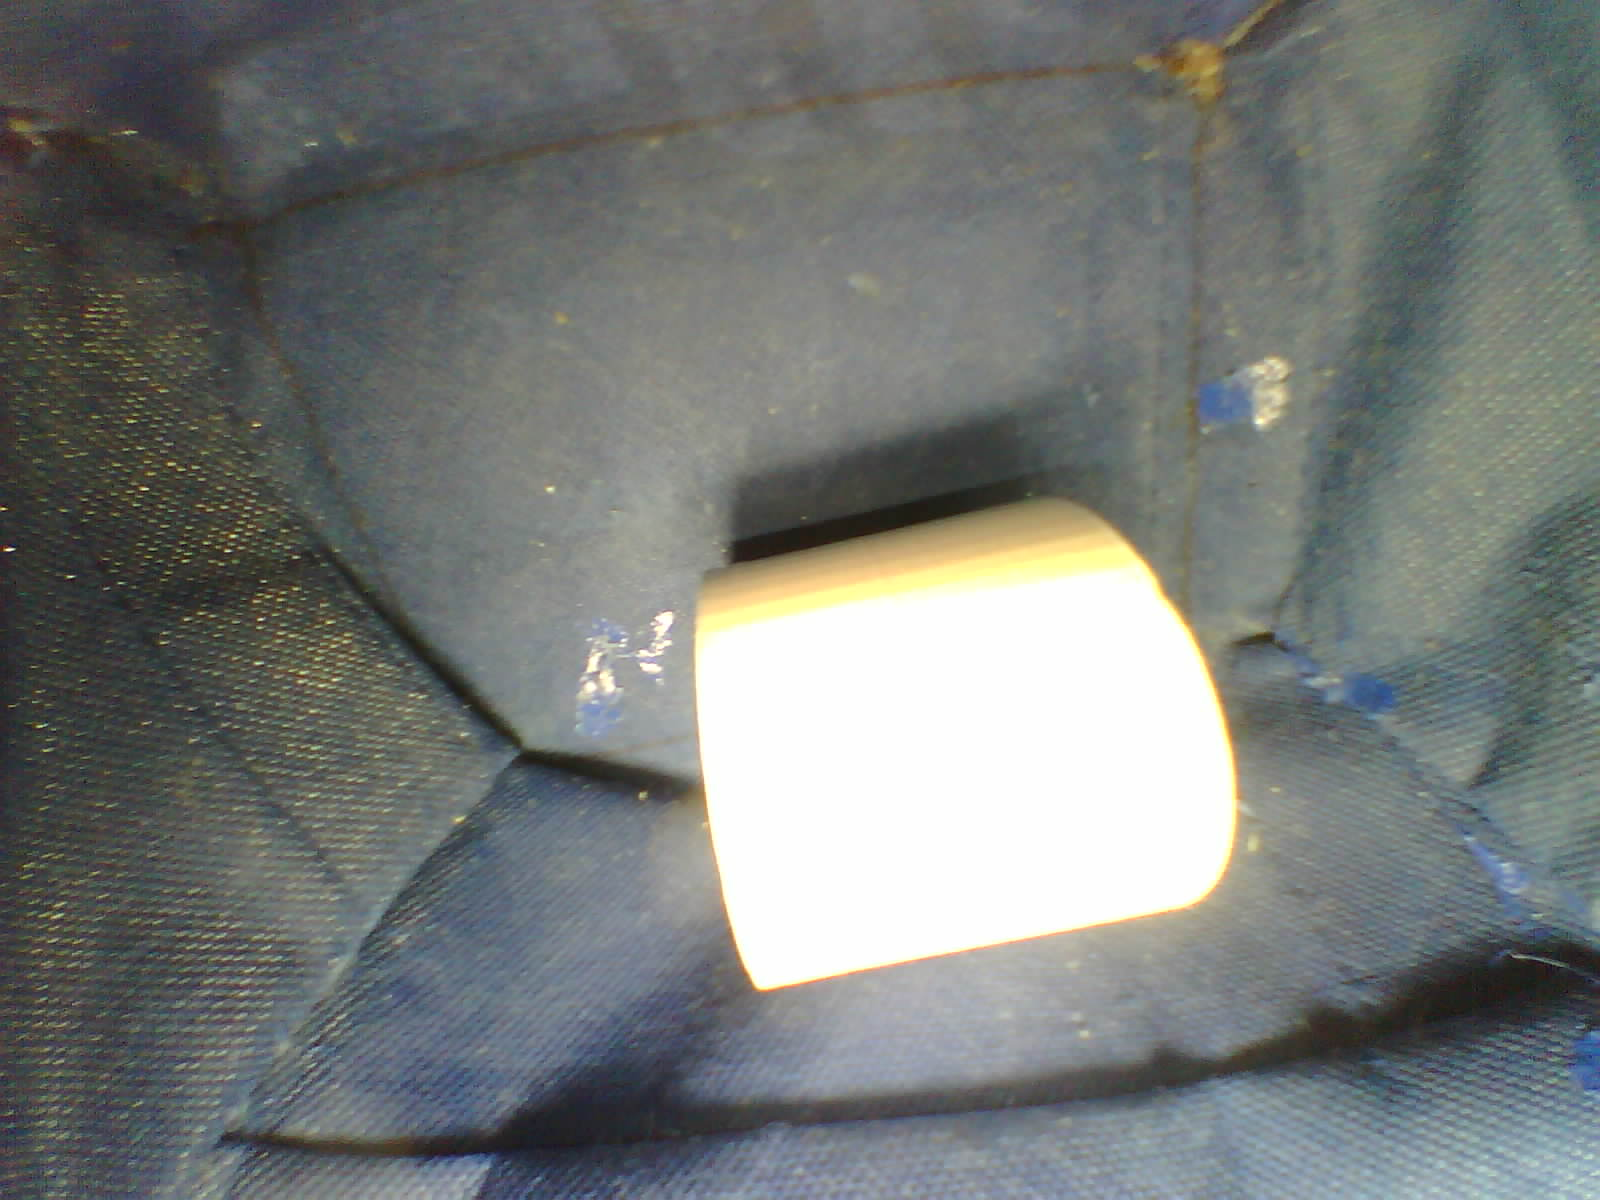cylinder-hard: (677, 465, 1250, 1000)
